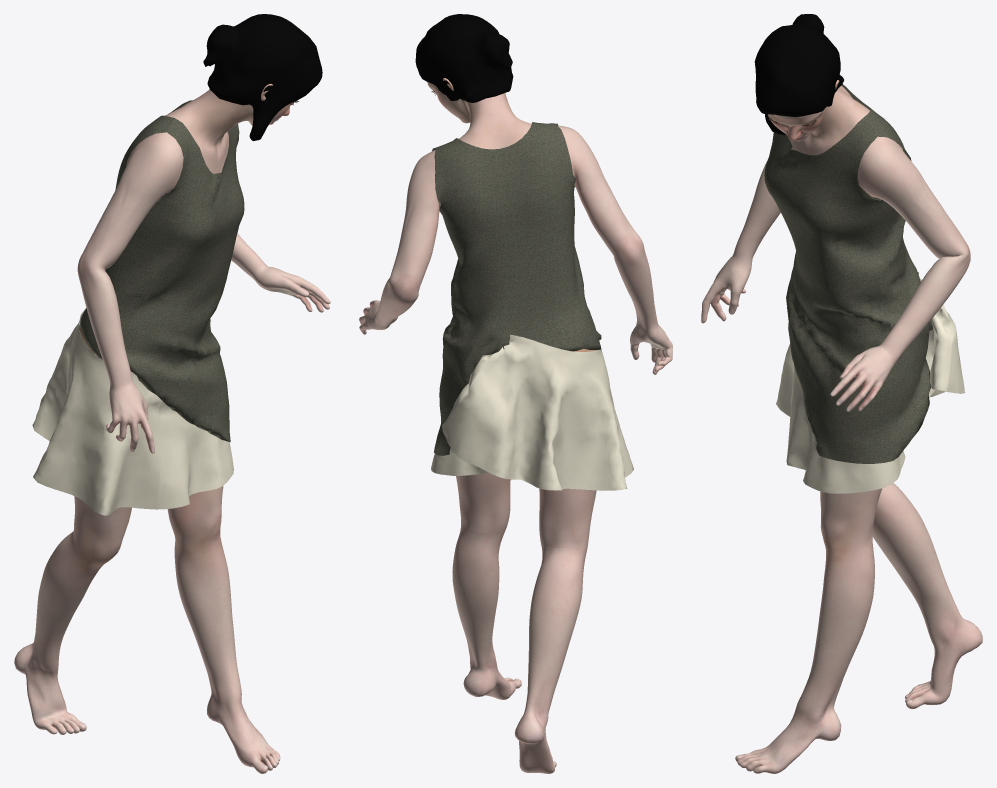
File: Dynamic_2.obj
3 views of the same model, side by side, from view 1: azimuth 30°, elevation 25°; view 2: azimuth 150°, elevation 25°; view 3: azimuth 270°, elevation 25° (orthographic). The views are drawn at different scales.
Bounding box in the file's own units: 713 × 1739 × 590.
